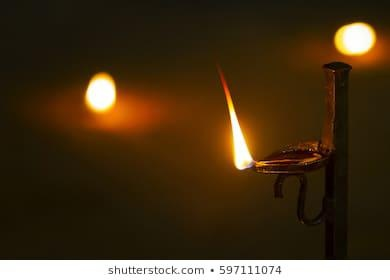fire: (219, 68, 256, 170), (82, 68, 118, 114)
